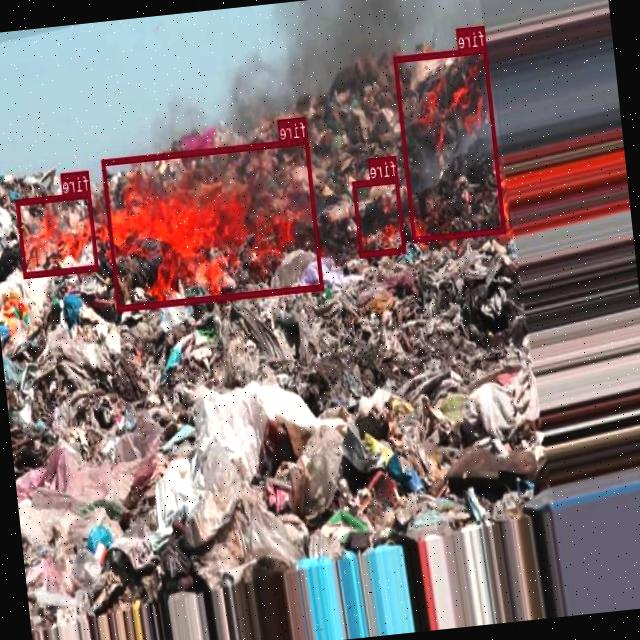fire: (102, 136, 324, 310), (394, 46, 507, 242), (16, 191, 99, 277), (352, 176, 407, 256)
